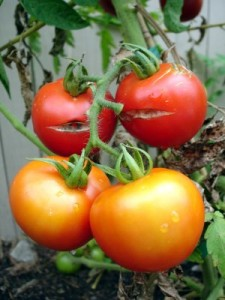stems: (97, 139, 145, 179), (68, 143, 94, 178)
tomato: (88, 167, 207, 272), (9, 155, 111, 252), (116, 63, 208, 149), (30, 77, 117, 155)
